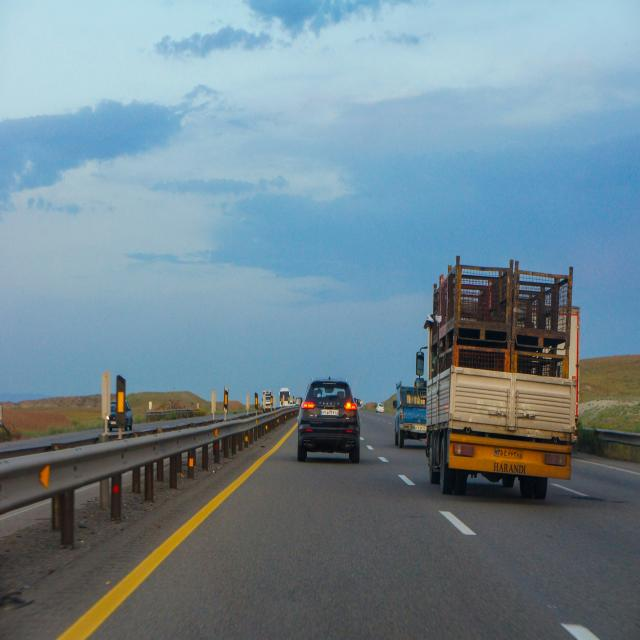Trucks: (424, 259, 579, 498), (263, 391, 273, 410), (280, 388, 289, 407)
